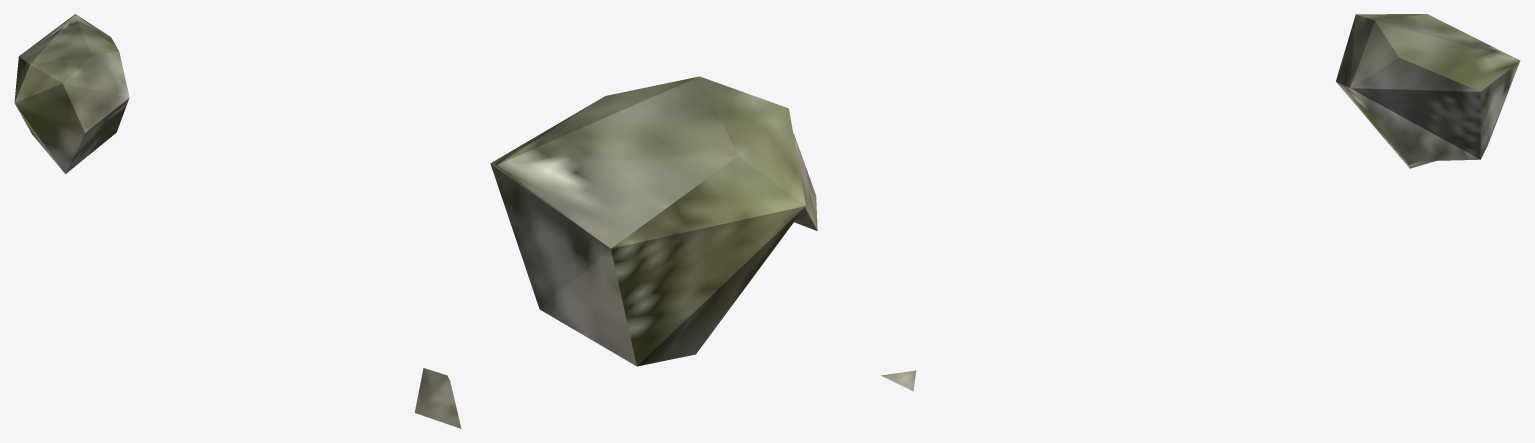
3 renders of one model, left to right at view 1: azimuth 30°, elevation 25°; view 2: azimuth 150°, elevation 25°; view 3: azimuth 270°, elevation 25°, orthographic. The views are drawn at different scales.
Size of the model in its own units: 0.3504 by 0.3855 by 0.7498.
1 material, 1 textured.
